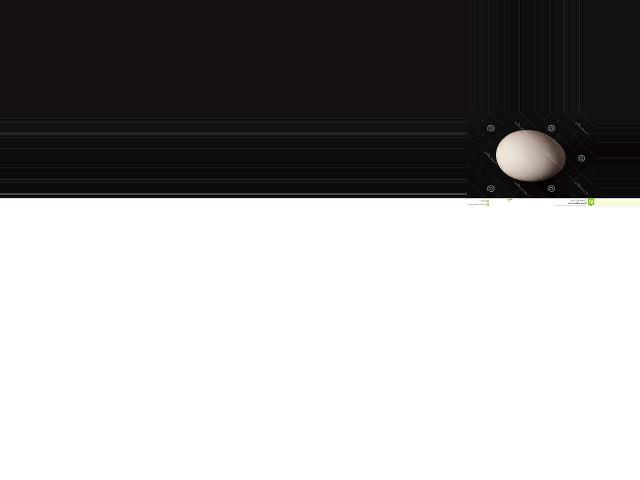egg: (495, 130, 565, 181)
